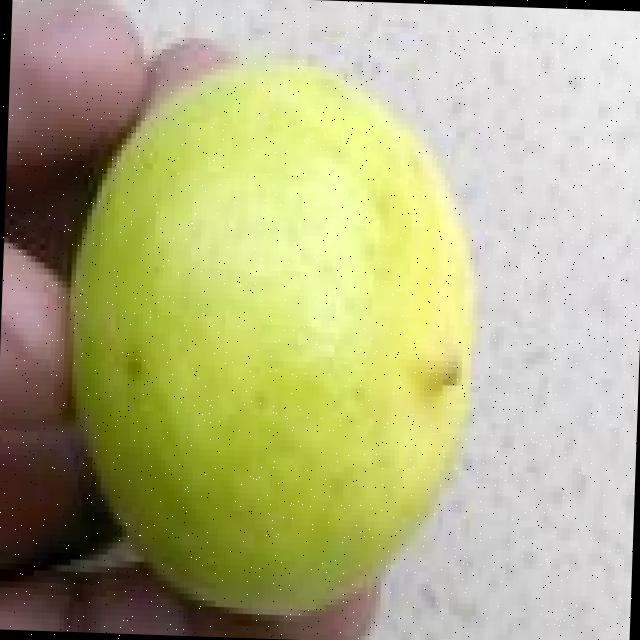Good_Lime-10-21-days: (56, 37, 474, 619)
